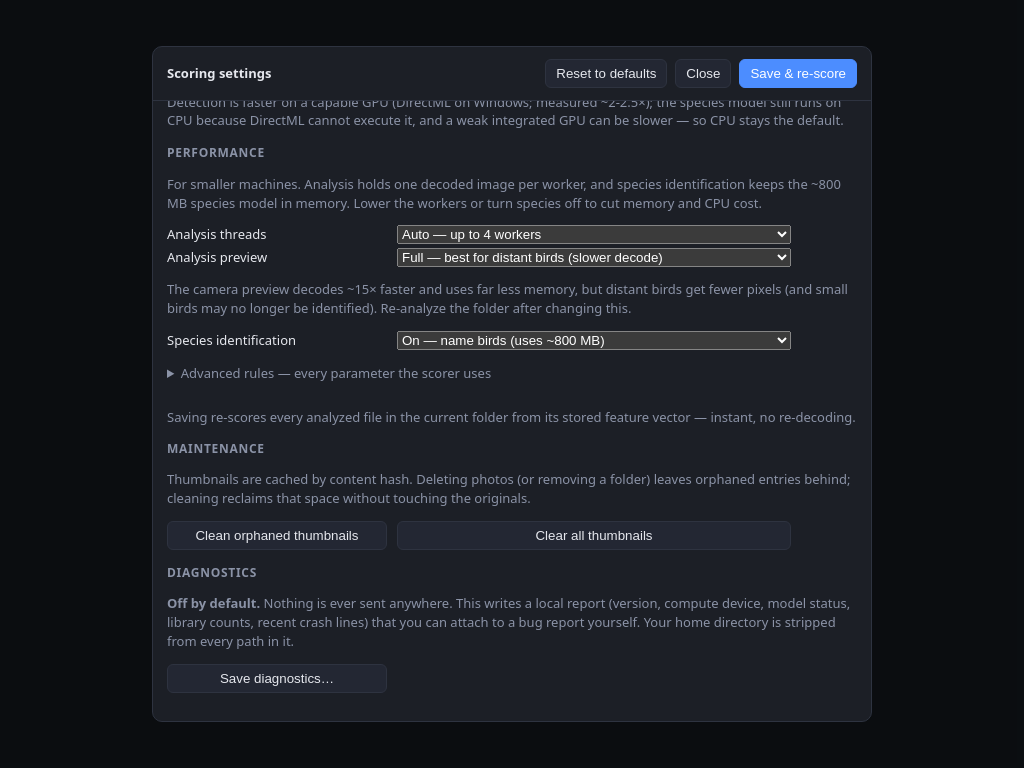
Test: Settings diagnostics › writes nothing when the dialog is cancelled
The image size is (1024, 768).
(page scrolled)
Click the button "Save diagnostics…".
click(277, 678)  # box [167,664,387,693]
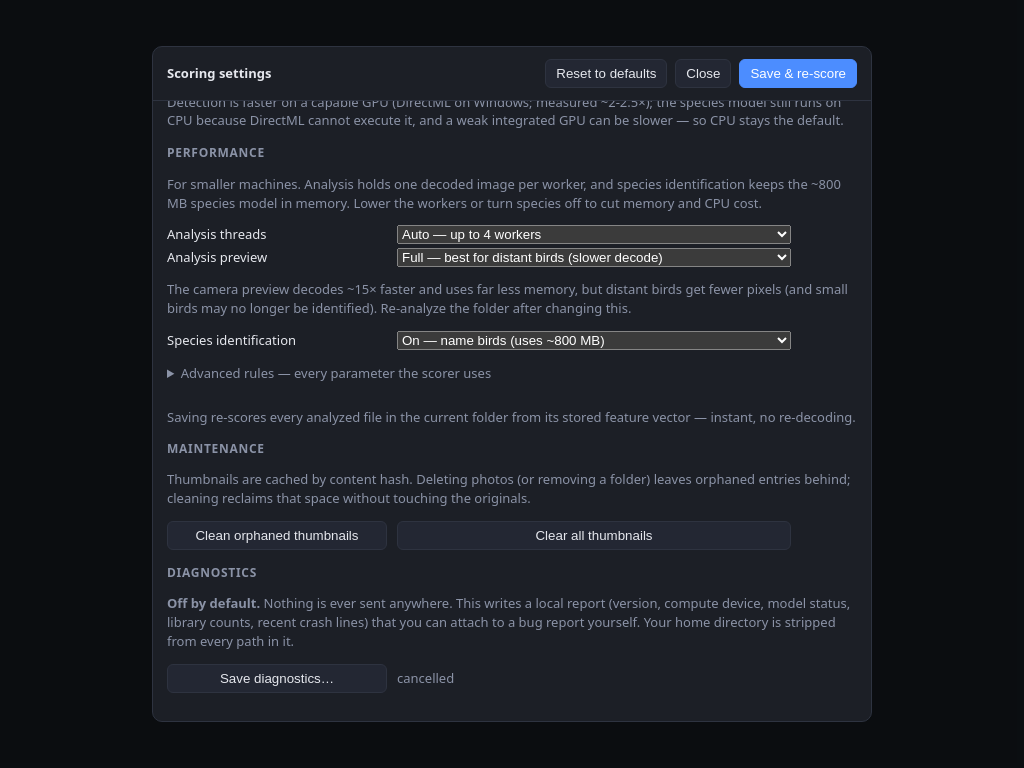
Now the text "cancelled" is shown, box [397,669,454,687]
